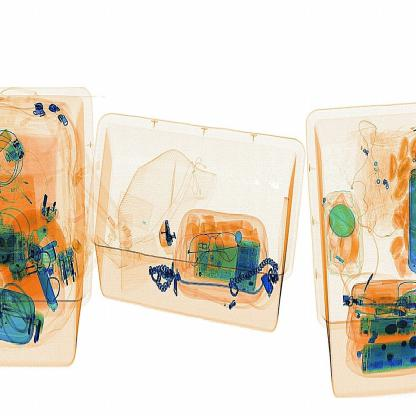wrench: (146, 211, 174, 254)
